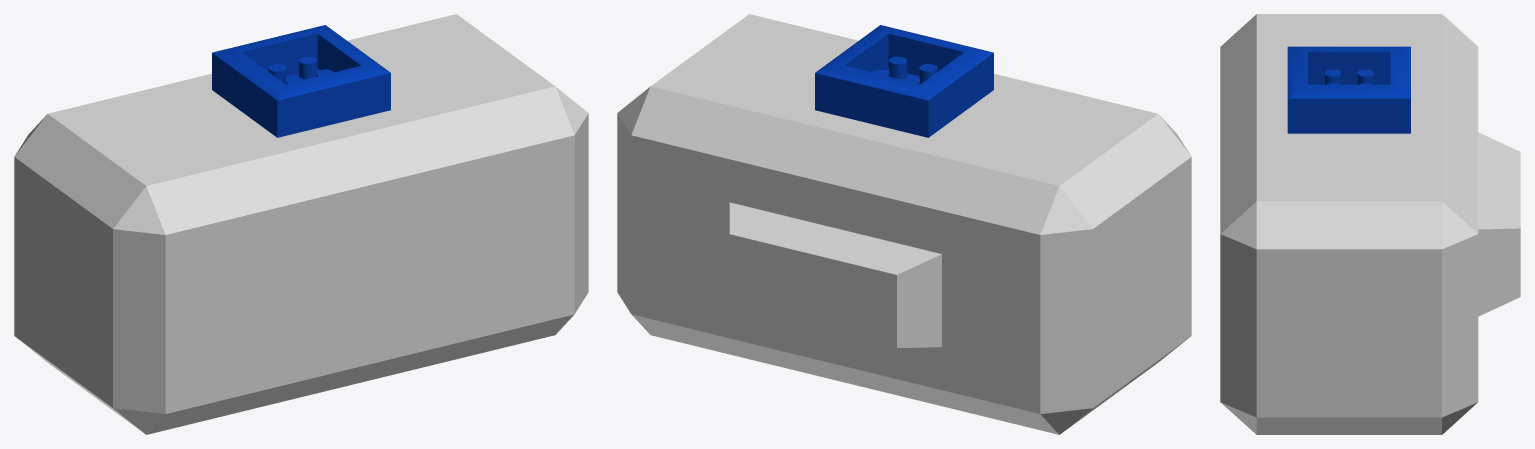
Rendered from TiltSensor.gltf.
The picture shows the model from 3 angles, left to right: view 1: azimuth 30°, elevation 25°; view 2: azimuth 150°, elevation 25°; view 3: azimuth 270°, elevation 25°; orthographic projection. The views are drawn at different scales.
Visible parts, largest first — view 1: base; view 2: base; view 3: base.
Part boxes in pixels (bbox=[...]): base: bbox=[14, 14, 588, 434]; base: bbox=[617, 14, 1191, 434]; base: bbox=[1220, 14, 1520, 434].
Size of the model in its own units: 0.25 by 0.1456 by 0.1455.
